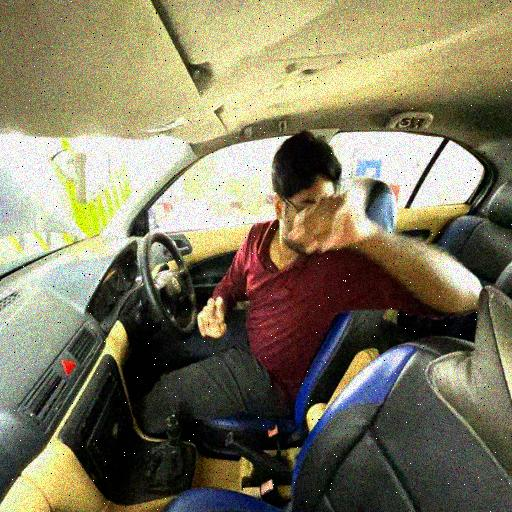Reaching_behind: (196, 131, 479, 444)
